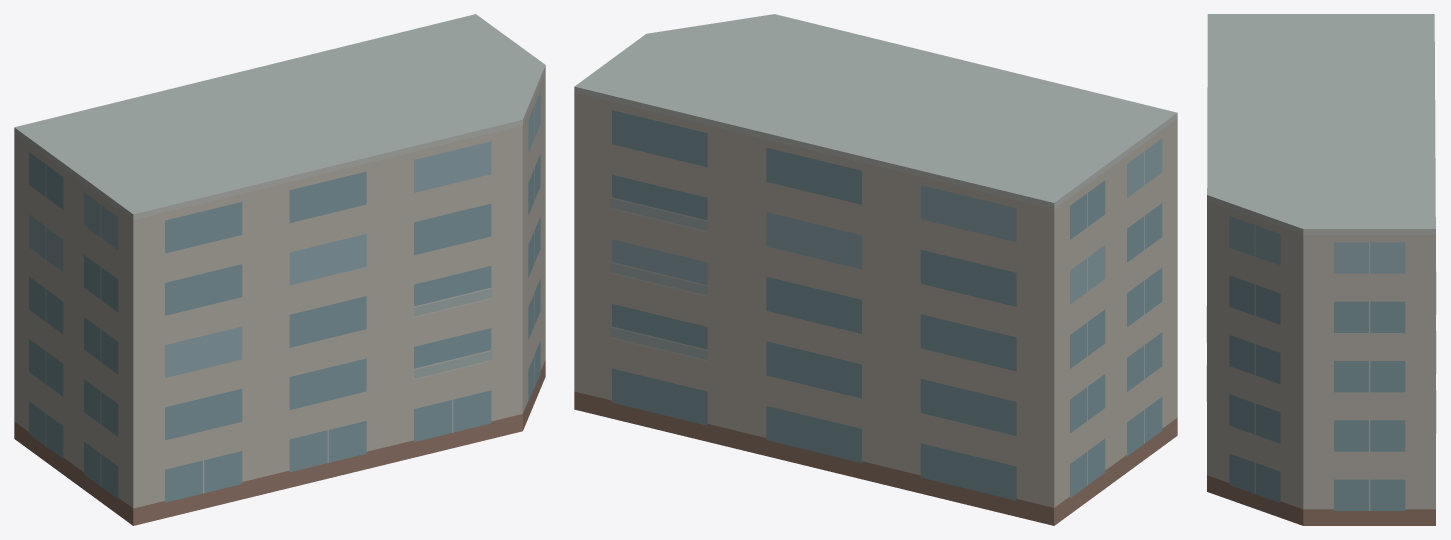
Rendered from survey-upis-33017316.glb.
3 renders of one model, left to right at view 1: azimuth 30°, elevation 25°; view 2: azimuth 150°, elevation 25°; view 3: azimuth 270°, elevation 25°, orthographic. The views are drawn at different scales.
Visible parts, largest first — view 1: survey-upis-33017316.tmp; view 2: survey-upis-33017316.tmp; view 3: survey-upis-33017316.tmp.
Part boxes in pixels (box(x1,y1,x2,y2)): survey-upis-33017316.tmp: box(14, 14, 545, 525); survey-upis-33017316.tmp: box(574, 14, 1177, 525); survey-upis-33017316.tmp: box(1206, 14, 1436, 525).
Bounding box in the file's own units: 20.45 × 13.15 × 9.26.
